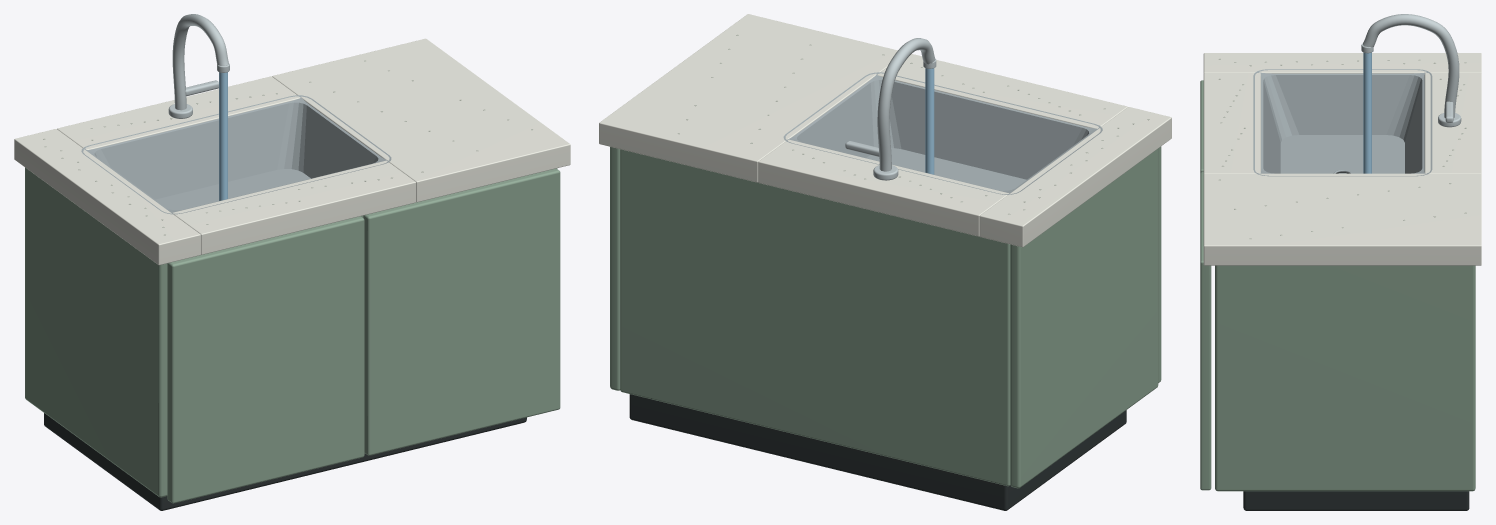
File: kitchenModernSinkSage.glb
3 views of the same model, side by side, from view 1: azimuth 30°, elevation 25°; view 2: azimuth 150°, elevation 25°; view 3: azimuth 270°, elevation 25° (orthographic). The views are drawn at different scales.
Parts seen in each view (by area): view 1: Handleless sink cabinet door, Handleless sink cabinet door.001, Sink cabinet side, Thick stone worktop.001, Recessed sink bowl, Thick stone worktop.002, Thick stone worktop, Thick stone worktop.003, Recessed kitchen plinth, Curved mixer tap, Interaction water; view 2: Sink cabinet back, Sink cabinet side, Thick stone worktop.001, Recessed sink bowl, Recessed kitchen plinth, Thick stone worktop.003, Thick stone worktop, Thick stone worktop.002, Sink cabinet side.001, Curved mixer tap, Interaction water, Handleless sink cabinet door; view 3: Sink cabinet side.001, Thick stone worktop.001, Recessed sink bowl, Thick stone worktop.002, Thick stone worktop, Thick stone worktop.003, Recessed kitchen plinth, Handleless sink cabinet door.001, Curved mixer tap, Interaction water, Handleless sink cabinet door.
Boxes of the visible parts, bbox=[...] form: Handleless sink cabinet door: bbox=[167, 216, 364, 503]; Handleless sink cabinet door.001: bbox=[363, 168, 560, 455]; Sink cabinet side: bbox=[25, 167, 167, 497]; Thick stone worktop.001: bbox=[272, 38, 570, 202]; Recessed sink bowl: bbox=[81, 95, 391, 214]; Thick stone worktop.002: bbox=[172, 160, 415, 254]; Thick stone worktop: bbox=[14, 129, 200, 265]; Thick stone worktop.003: bbox=[57, 76, 300, 149]; Recessed kitchen plinth: bbox=[44, 413, 526, 510]; Curved mixer tap: bbox=[172, 14, 228, 110]; Interaction water: bbox=[219, 72, 227, 200]; Sink cabinet back: bbox=[620, 149, 1010, 486]; Sink cabinet side: bbox=[1010, 149, 1158, 488]; Thick stone worktop.001: bbox=[599, 14, 897, 182]; Recessed sink bowl: bbox=[783, 72, 1102, 194]; Recessed kitchen plinth: bbox=[629, 394, 1126, 510]; Thick stone worktop.003: bbox=[758, 139, 1008, 236]; Thick stone worktop: bbox=[979, 107, 1171, 247]; Thick stone worktop.002: bbox=[877, 54, 1127, 128]; Sink cabinet side.001: bbox=[610, 147, 620, 390]; Curved mixer tap: bbox=[877, 38, 935, 171]; Interaction water: bbox=[925, 68, 934, 174]; Handleless sink cabinet door: bbox=[1158, 146, 1161, 382]; Sink cabinet side.001: bbox=[1215, 265, 1475, 491]; Thick stone worktop.001: bbox=[1203, 173, 1481, 265]; Recessed sink bowl: bbox=[1253, 69, 1432, 176]; Thick stone worktop.002: bbox=[1203, 73, 1260, 173]; Thick stone worktop: bbox=[1203, 53, 1481, 73]; Thick stone worktop.003: bbox=[1424, 73, 1481, 173]; Recessed kitchen plinth: bbox=[1243, 491, 1469, 510]; Handleless sink cabinet door.001: bbox=[1200, 172, 1211, 490]; Curved mixer tap: bbox=[1363, 14, 1459, 117]; Interaction water: bbox=[1363, 52, 1371, 173]; Handleless sink cabinet door: bbox=[1200, 80, 1203, 172].
Size of the model in its own units: 1.84 by 1.71 by 1.13.
